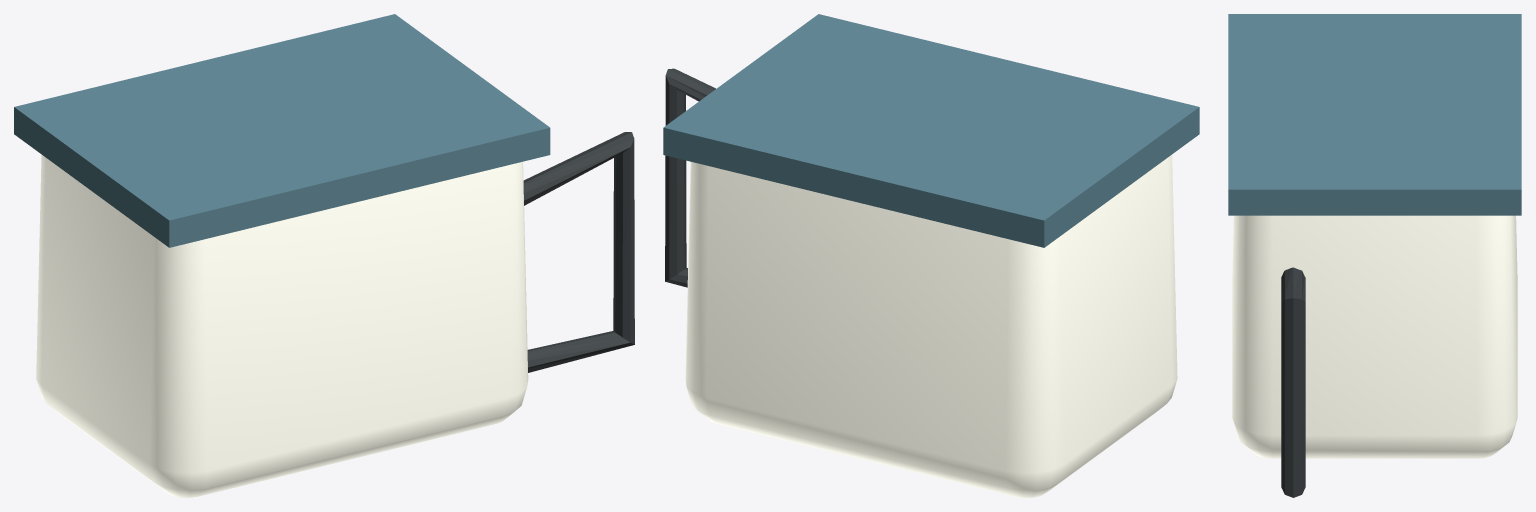
File: endurance-and-gt-paddock-driver-cool-box-2c016785__14869.glb
The picture shows the model from 3 angles, left to right: view 1: azimuth 30°, elevation 25°; view 2: azimuth 150°, elevation 25°; view 3: azimuth 270°, elevation 25°; orthographic projection. The views are drawn at different scales.
Parts seen in each view (by area): view 1: driver-cool-box; view 2: driver-cool-box; view 3: driver-cool-box.
Boxes of the visible parts, <box> form: driver-cool-box: <box>14,14,634,497</box>; driver-cool-box: <box>663,14,1199,497</box>; driver-cool-box: <box>1228,14,1521,497</box>.
Size of the model in its own units: 0.6667 by 0.385 by 0.36.
